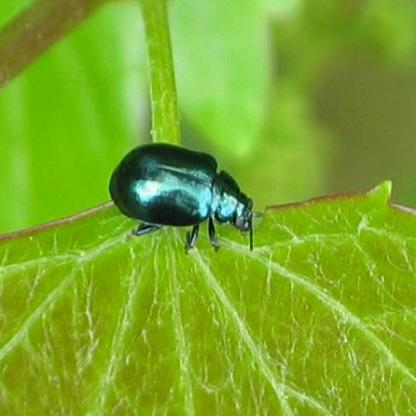beetle: (104, 133, 250, 256)
